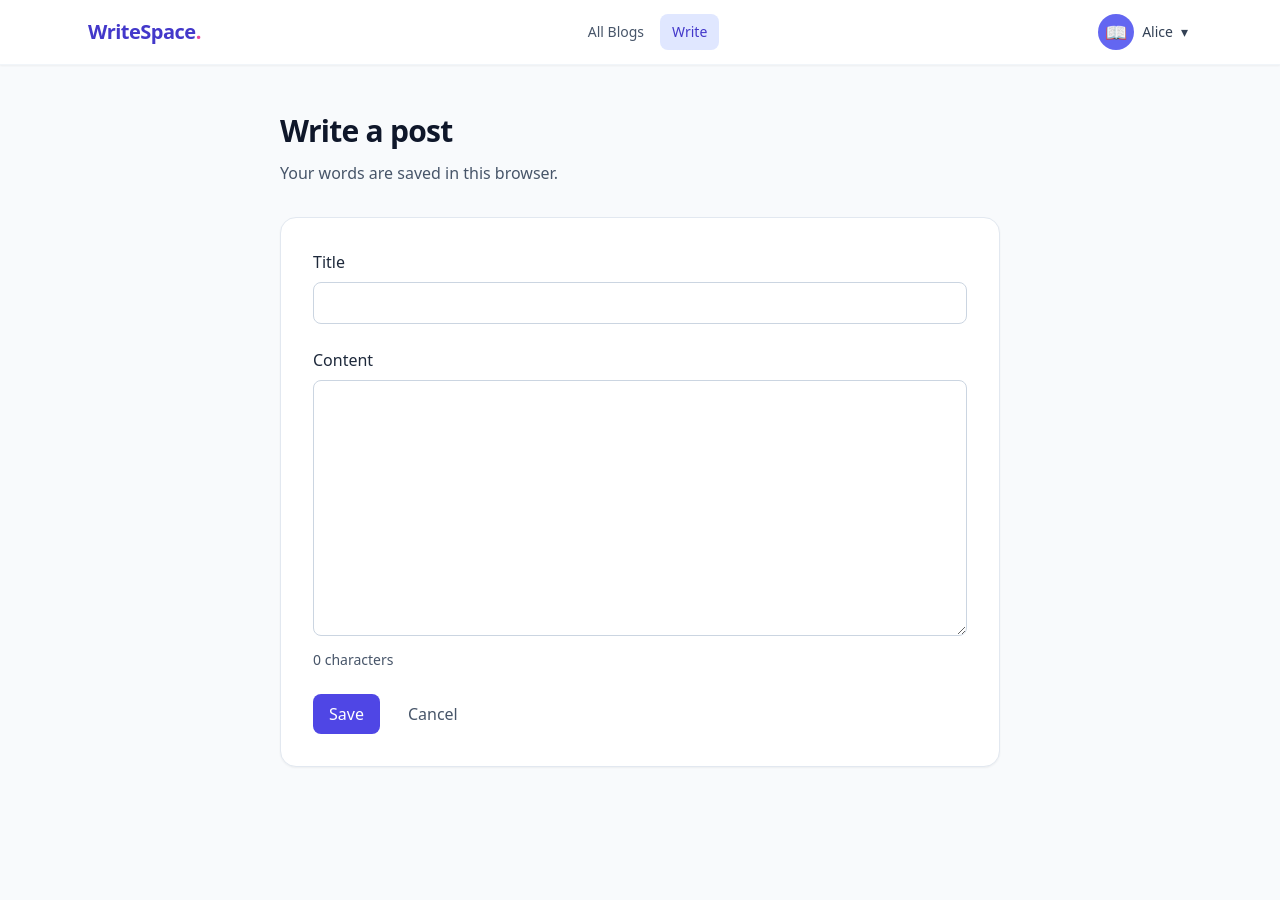
Scenario: blog routes › reports corrupt storage without replacing it when saving
Type "Title" into the field labelled "Title" at x=640, y=303, box x1=313 y1=282 x2=967 y2=324
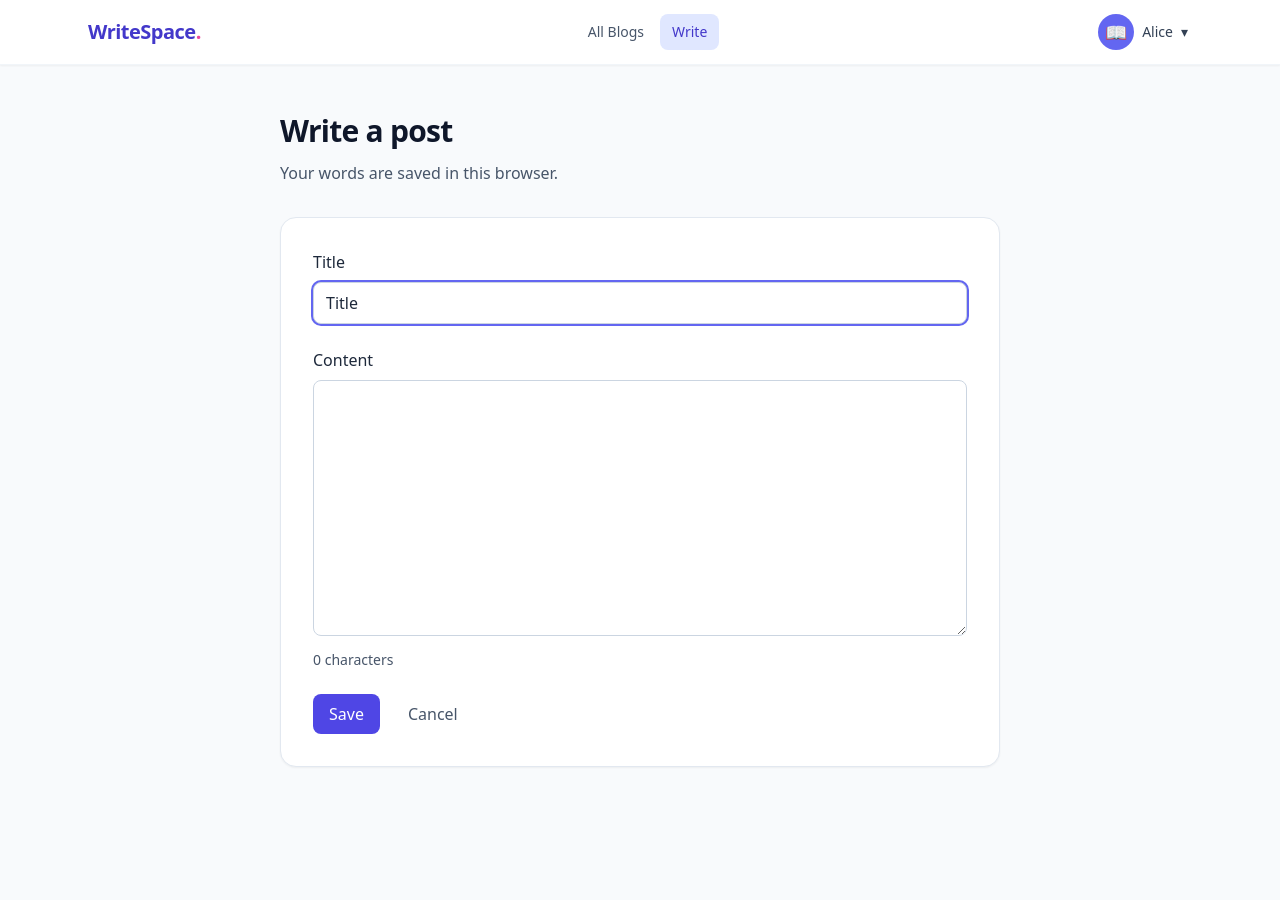
Type "Content" into the text box labelled "Content" at x=640, y=508, box x1=313 y1=380 x2=967 y2=636
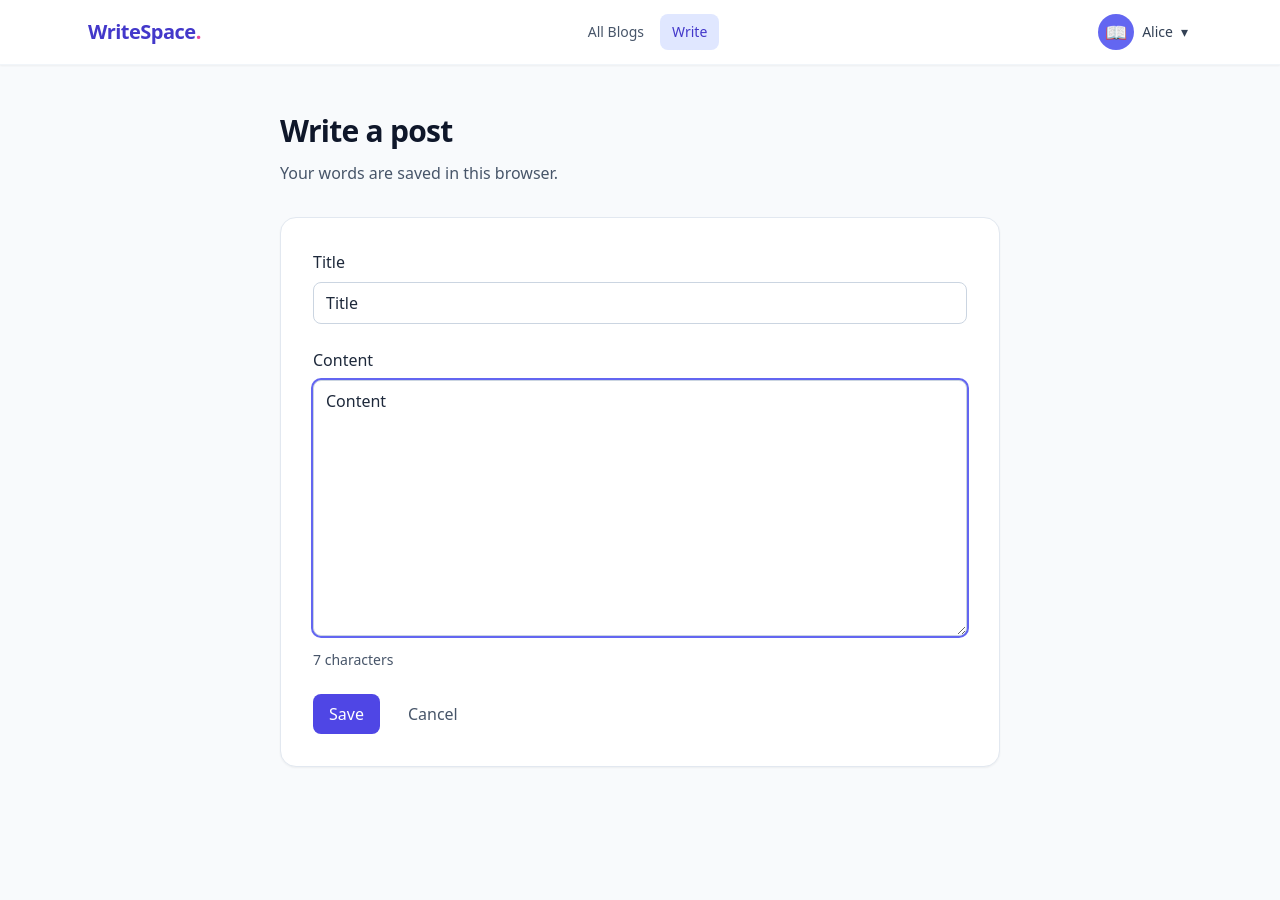
Click the button "Save" at x=346, y=714, box x1=313 y1=694 x2=380 y2=734
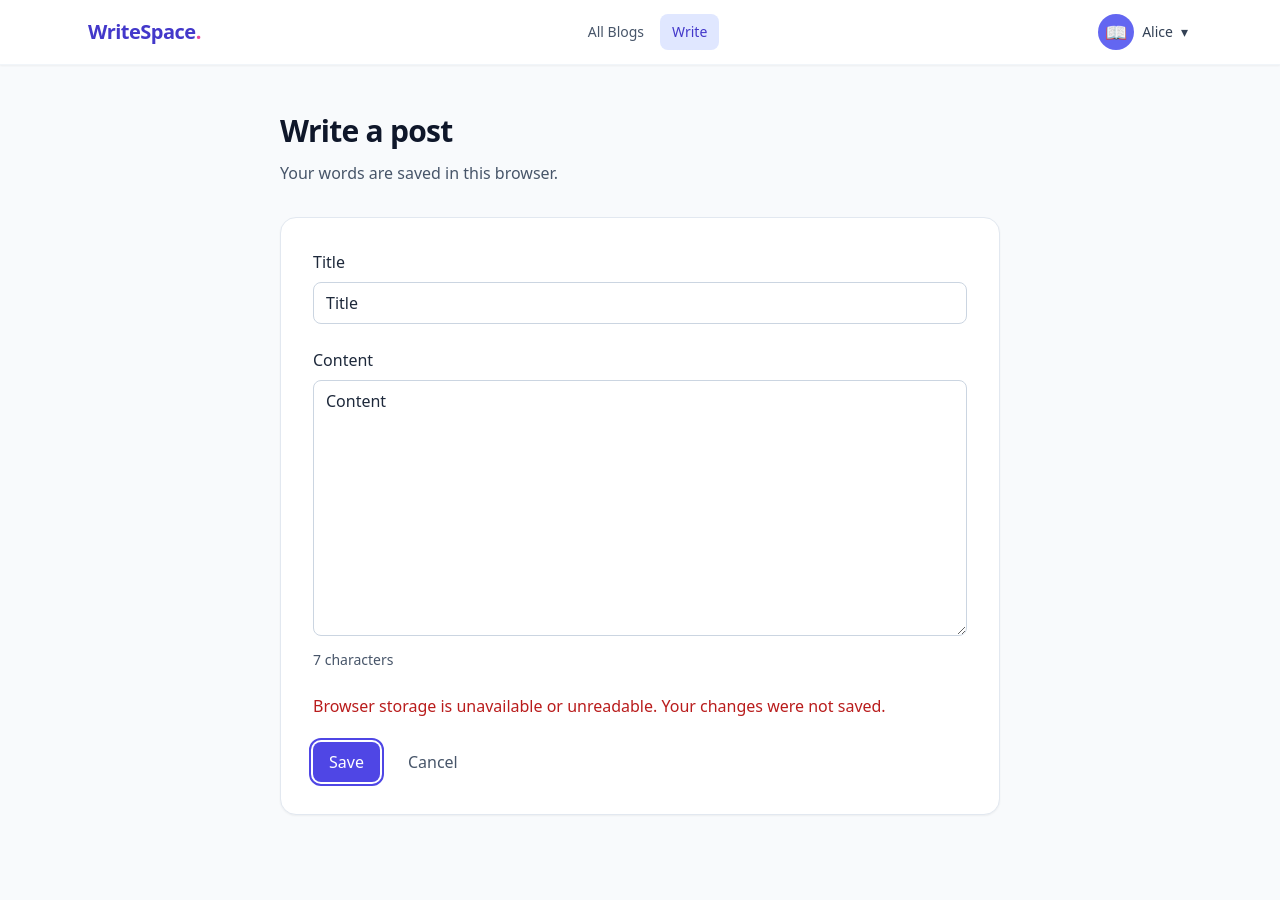
expect the message shows "storage": met, box x1=313 y1=695 x2=886 y2=717
